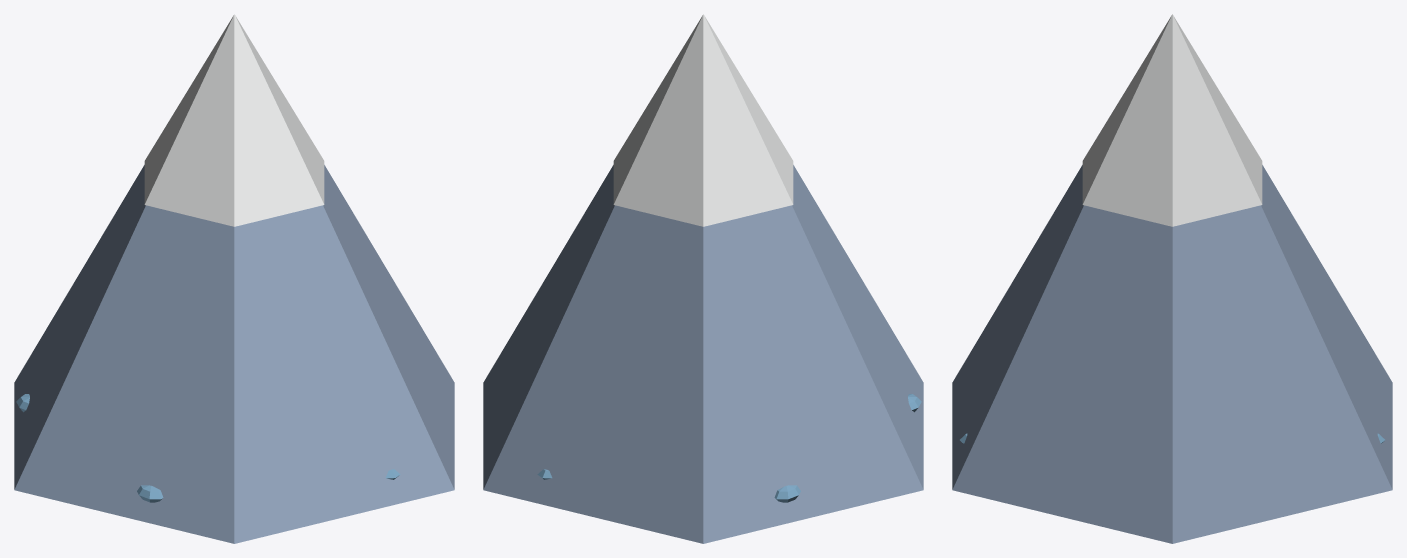
The model's file is montana_nevada.glb.
3 renders of one model, left to right at view 1: azimuth 30°, elevation 25°; view 2: azimuth 150°, elevation 25°; view 3: azimuth 270°, elevation 25°, orthographic.
Parts seen in each view (by area): view 1: montana_nevada; view 2: montana_nevada; view 3: montana_nevada.
Part boxes in pixels (bbox=[...]): montana_nevada: bbox=[14, 14, 454, 543]; montana_nevada: bbox=[483, 14, 923, 543]; montana_nevada: bbox=[952, 14, 1392, 543].
Bounding box in the file's own units: 12 × 11 × 10.39.
